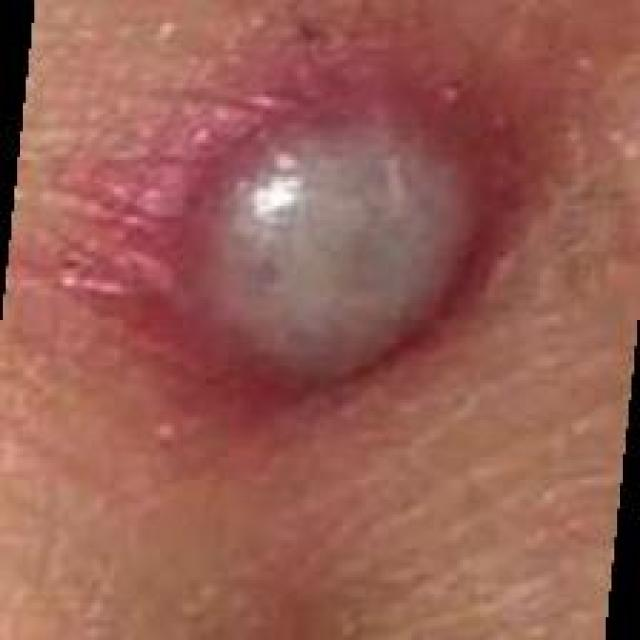monkeypox: (26, 45, 602, 631)
